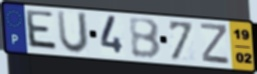4: (99, 14, 128, 59)
7: (168, 19, 196, 63)
B: (127, 18, 163, 61)
E: (26, 9, 60, 53)
U: (56, 9, 90, 56)
Z: (199, 22, 231, 67)
